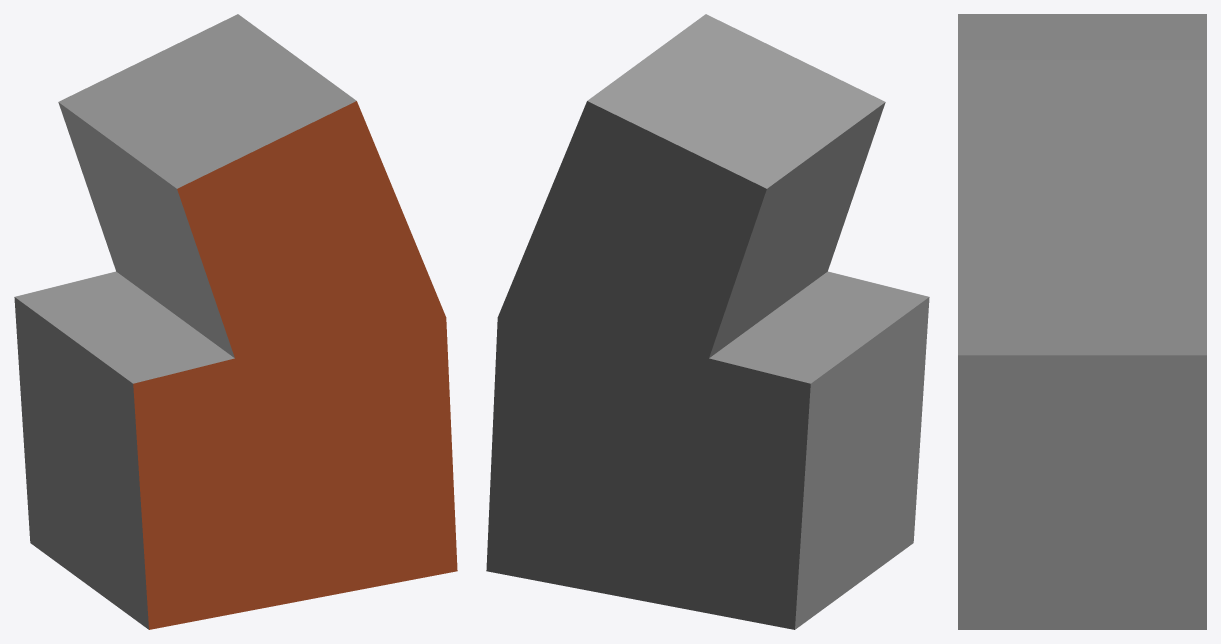
File: construction_4174_assumed_A_Casa_h6m.obj
The picture shows the model from 3 angles, left to right: view 1: azimuth 30°, elevation 25°; view 2: azimuth 150°, elevation 25°; view 3: azimuth 270°, elevation 25°; orthographic projection. The views are drawn at different scales.
Parts seen in each view (by area): view 1: construction_4174_assumed_A_Casa; view 2: construction_4174_assumed_A_Casa; view 3: construction_4174_assumed_A_Casa.
Boxes of the visible parts, x1,y1,x2,y2 form: construction_4174_assumed_A_Casa: [14, 14, 457, 629]; construction_4174_assumed_A_Casa: [486, 14, 929, 629]; construction_4174_assumed_A_Casa: [958, 14, 1206, 629].
Size of the model in its own units: 9.46 by 13.79 by 6.
